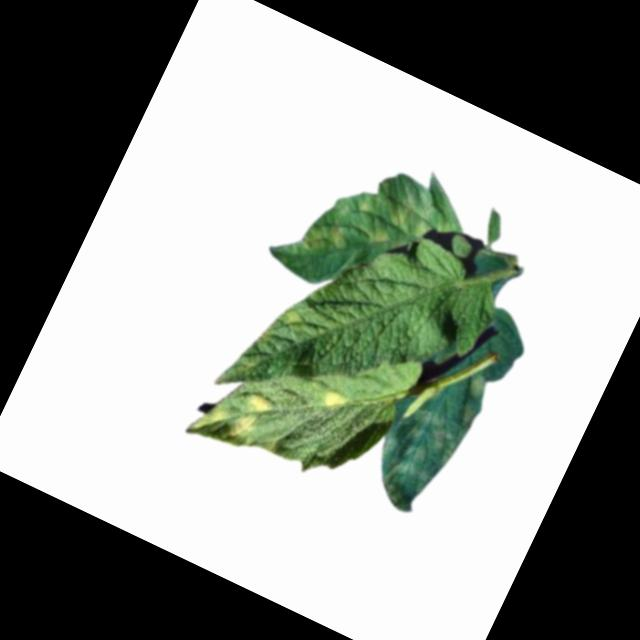Leaf_Mold: (292, 147, 463, 305), (358, 349, 495, 524), (184, 369, 280, 464), (275, 303, 317, 343), (319, 382, 354, 416)
